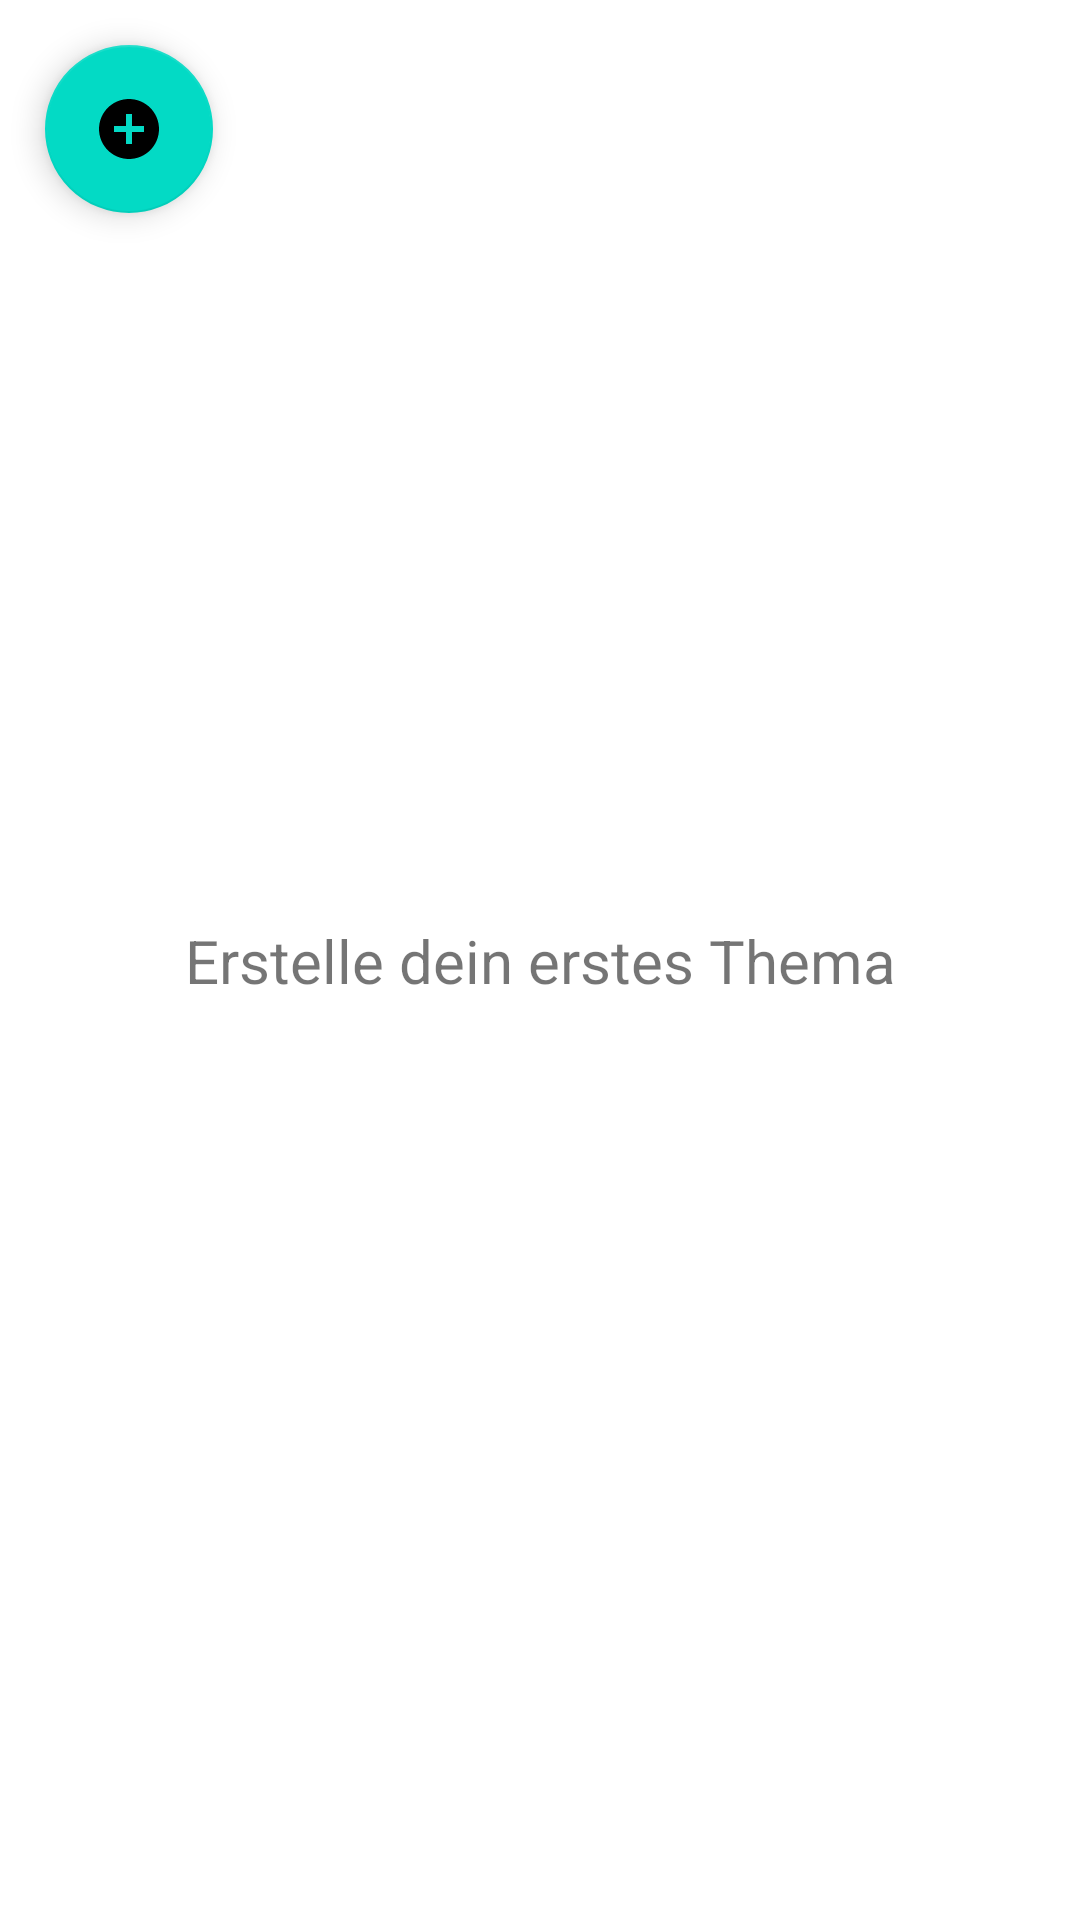

Point at icon controls on the screen. Image size 1080 x 1920, points as [x,y].
add circle: [129,129]
